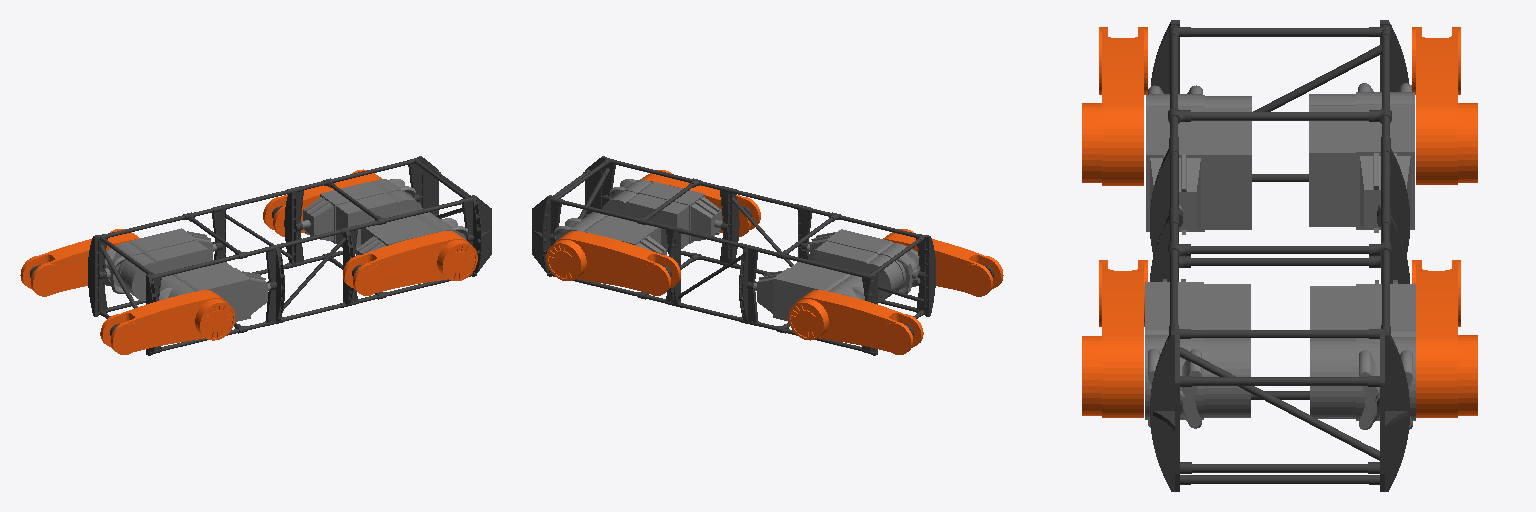
URDF robot description (vision60):
<?xml version="1.0" ?>
<!-- =================================================================================== -->
<!-- |    This document was autogenerated by xacro from vision60.urdf.xacro            | -->
<!-- |    Converted by [author], 2018-08-04, Caltech                               | -->
<!-- |    Toe deleted                                                                  | -->
<!-- |    Meshes added                                                                 | -->
<!-- |    EDITING THIS FILE BY HAND IS NOT RECOMMENDED                                 | -->
<!-- =================================================================================== -->
<!--
 * Copyright (C) Ghost Robotics - All Rights Reserved
 * Unauthorized copying of this file, via any medium is strictly prohibited
 * Proprietary and confidential
 * Written by [author] <[email redacted]> and [author] <[email redacted]>
-->
<robot name="vision60" xmlns:xacro="http://www.ros.org/wiki/xacro">
  <!-- Define materials -->
  <material name="gray">
    <color rgba="0.5 0.5 0.5 1.2"/>
  </material>
  <material name="white">
    <color rgba="1 1 1 0.9"/>
  </material>
  <material name="darkgray">
    <color rgba="0.3 0.3 0.3 1.0"/>
  </material>
  <material name="blue">
    <color rgba="0 0 0.8 1"/>
  </material>
  <material name="black">
    <color rgba="0 0 0 1"/>
  </material>
  <material name="purple">
    <color rgba="0.5 0.0 0.5 1.0"/>
  </material>
  <material name="red">
    <color rgba="0.8 0.0 0.2 1.0"/>
  </material>
  <material name="ctorange">
    <color rgba="1.0 0.43137254902 0.117647058824 1"/>
  </material>
  <!-- Body -->
  <link name="body">
    <visual>
      <origin rpy="0 0 0" xyz="-0.45 -0.155  -0.105"/>
      <geometry>
        <!-- <box size="0.88 0.25 0.19"/> -->
        <mesh scale="0.001 0.001 0.001" filename="package://vision60/meshes/body_frame.STL"/>
      </geometry>
      <material name="darkgray"/>
    </visual>
    <inertial>
      <mass value="12"/>
      <!-- Uniform box -->
      <inertia ixx="0.058" ixy="0" ixz="0" iyy="0.149" iyz="0" izz="0.195"/>
    </inertial>
    <!-- Just copy geometry for collision -->
    <collision>
      <geometry>
        <!-- <box size="0.05 0.25 0.19"/> -->
        <mesh filename="package://vision60/meshes/body_frame.STL"/>
      </geometry>
    </collision>
  </link>
  <!-- red new legs -->
  <!-- TODO: clean this, it should be part of main leg macro -->
  <!-- Hip motor -->
  <link name="hip0">
    <visual>
      <origin rpy="0 3.1415926 0" xyz="0.095 -0.1232 0.0487"/>
      <geometry>
        <mesh scale="0.001 0.001 0.001" filename="package://vision60/meshes/motor_lh.STL"/>
	      <!-- <box size="0.195 0.1 0.17"/> -->
      </geometry>
      <material name="gray"/>
    </visual>
    <collision>
      <origin rpy="1.5707963268 0 0" xyz="0.0 -0.039 0"/>
      <geometry>
	   <mesh filename="package://vision60/meshes/motor_lh.STL"/>
        <!-- <box size="0.195 0.1 0.17"/> -->
      </geometry>
    </collision>
    <inertial>
      <mass value="2.75"/>
      <inertia ixx="0.0058" ixy="0" ixz="0" iyy="0.0058" iyz="0" izz="0.0027"/>
    </inertial>
  </link>
  <!-- Abduction joint. Joint names are: 8 9 10 11 -->
  <joint name="hipRoll0" type="revolute">
    <parent link="body"/>
    <child link="hip0"/>
    <axis xyz="1 0 0"/>
    <origin xyz="0.325 0.1575 0"/>
    <limit effort="375" lower="-0.43" upper="0.43" velocity="8.6"/>
    <dynamics damping="0.0" friction="0.0"/>
  </joint>
  <!-- Upper leg -->
  <link name="upper0">
    <visual>
      <origin rpy="3.1415926 1.5707963 3.1415926" xyz="-0.27 -0.07 0.05"/>
      <!--<origin rpy="0 0 0" xyz="-0.125 0.0 0"/>-->
      <geometry>
        <mesh scale="0.001 0.001 0.001" filename="package://vision60/meshes/femur.STL"/>
        <!--<box size="0.25 0.044 0.06"/>-->
      </geometry>
      <material name="ctorange"/>
    </visual>
    <collision>
      <origin rpy="0 0 0" xyz="-0.125 0 0"/>
      <geometry>
        <box size="0.25 0.044 0.06"/>
      </geometry>
    </collision>
    <inertial>
      <mass value="0.625"/>
      <inertia ixx="0.0003125" ixy="0" ixz="0" iyy="0.0040625" iyz="0" izz="0.0040625"/>
    </inertial>
  </link>
  <!-- Hip joint. (Motor to upper leg). Joint names are: 0 2 4 6 -->
  <joint name="hipPitch0" type="revolute">
    <parent link="hip0"/>
    <child link="upper0"/>
    <axis xyz="0 -1 0"/>
    <origin xyz="0 0.068 0"/>
    <!--  rpy="0 -0.3 0" -->
    <limit effort="87.5" lower="-3.14159265359" upper="3.14159265359" velocity="30"/>
    <dynamics damping="0.0" friction="0.0"/>
  </joint>
  <!-- Lower leg -->
  <link name="lower0">
    <visual>
      <!-- <origin rpy="0 1.5707963268 3.1415926" xyz="0.2 0.034 0.05"/> -->
      <origin rpy="0 -1.5707963268 0" xyz="0.29 -0.057  -0.02"/>
      <geometry>
        <mesh scale="0.001 0.001 0.001" filename="package://vision60/meshes/tibia.STL"/>
        <!--  <cylinder length="0.28" radius="0.011"/>  -->
      </geometry>
      <material name="darkgray"/>
    </visual>
    <collision>
      <origin rpy="0 1.5707963268 0" xyz="0.14 0 -0.0355"/>
      <geometry>
        <cylinder length="0.28" radius="0.011"/>
      </geometry>
    </collision>
    <inertial>
      <mass value="0.2"/>
      <inertia ixx="0.00131075" ixy="0" ixz="0" iyy="0.00131075" iyz="0" izz="0.0001"/>
    </inertial>
  </link>
  <!-- Knee joint. Joint names are: 1 3 5 7 -->
  <joint name="knee0" type="revolute">
    <parent link="upper0"/>
    <child link="lower0"/>
    <axis xyz="0 1 0"/>
    <origin xyz="-0.25 0 0"/>
    <!--rpy="0 0.5 0"-->
    <limit effort="87.5" lower="0" upper="3.14159265359" velocity="30"/>
    <dynamics damping="0.0" friction="0.0"/>
  </joint>
   <!-- Hip motor -->
  <link name="hip1">
    <visual>
      <!-- <origin rpy="1.5707963268 0 0" xyz="0.0 -0.039 0"/> -->
      <origin rpy="0 0 0" xyz="-0.112 -0.124 -0.055"/>
      <geometry>
        <mesh scale="0.001 0.001 0.001" filename="package://vision60/meshes/motor_lh.STL"/>
        <!-- <box size="0.195 0.1 0.17"/> -->
      </geometry>
      <material name="gray"/>
    </visual>
    <collision>
      <origin rpy="1.5707963268 0 0" xyz="0.0 -0.039 0"/>
      <geometry>
        <box size="0.195 0.1 0.17"/>
      </geometry>
    </collision>
    <inertial>
      <mass value="2.75"/>
      <inertia ixx="0.0058" ixy="0" ixz="0" iyy="0.0058" iyz="0" izz="0.0027"/>
    </inertial>
  </link>
  <!-- Abduction joint. Joint names are: 8 9 10 11 -->
  <joint name="hipRoll1" type="revolute">
    <parent link="body"/>
    <child link="hip1"/>
    <axis xyz="1 0 0"/>
    <origin xyz="-0.325 0.1575 0"/>
    <limit effort="375" lower="-0.43" upper="0.43" velocity="8.6"/>
    <dynamics damping="0.0" friction="0.0"/>
  </joint>
  <!-- Upper leg -->
  <link name="upper1">
    <visual>
      <origin rpy="3.1415926 1.5707963 3.1415926" xyz="-0.27 -0.07 0.05"/>
      <!-- <origin rpy="0 0 0" xyz="-0.125 0.0 0"/> -->
      <geometry>
        <mesh scale="0.001 0.001 0.001" filename="package://vision60/meshes/femur.STL"/>
        <!-- <box size="0.25 0.044 0.06"/> -->
      </geometry>
      <material name="ctorange"/>
    </visual>
    <collision>
      <origin rpy="0 0 0" xyz="-0.125 0 0"/>
      <geometry>
        <box size="0.25 0.044 0.06"/>
      </geometry>
    </collision>
    <inertial>
      <mass value="0.625"/>
      <inertia ixx="0.0003125" ixy="0" ixz="0" iyy="0.0040625" iyz="0" izz="0.0040625"/>
    </inertial>
  </link>
  <!-- Hip joint. (Motor to upper leg). Joint names are: 0 2 4 6 -->
  <joint name="hipPitch1" type="revolute">
    <parent link="hip1"/>
    <child link="upper1"/>
    <axis xyz="0 -1 0"/>
    <origin xyz="0 0.068 0"/>
    <!--  rpy="0 -0.3 0" -->
    <limit effort="87.5" lower="-3.14159265359" upper="3.14159265359" velocity="30"/>
    <dynamics damping="0.0" friction="0.0"/>
  </joint>
  <!-- Lower leg -->
  <link name="lower1">
    <visual>
      <origin rpy="0 -1.5707963268 0" xyz="0.29 -0.057  -0.02"/>
      <!-- <origin rpy="0 1.5707963268 0" xyz="0.14 0 -0.0355"/> -->
      <geometry>
        <mesh scale="0.001 0.001 0.001" filename="package://vision60/meshes/tibia.STL"/>
        <!-- <cylinder length="0.28" radius="0.011"/> -->
      </geometry>
      <material name="darkgray"/>
    </visual>
    <collision>
      <origin rpy="0 1.5707963268 0" xyz="0.14 0 -0.0355"/>
      <geometry>
        <cylinder length="0.28" radius="0.011"/>
      </geometry>
    </collision>
    <inertial>
      <mass value="0.2"/>
      <inertia ixx="0.00131075" ixy="0" ixz="0" iyy="0.00131075" iyz="0" izz="0.0001"/>
    </inertial>
  </link>
  <!-- Knee joint. Joint names are: 1 3 5 7 -->
  <joint name="knee1" type="revolute">
    <parent link="upper1"/>
    <child link="lower1"/>
    <axis xyz="0 1 0"/>
    <origin xyz="-0.25 0 0"/>
    <!--rpy="0 0.5 0"-->
    <limit effort="87.5" lower="0" upper="3.14159265359" velocity="30"/>
    <dynamics damping="0.0" friction="0.0"/>
  </joint>
  <!-- Hip motor -->
  <link name="hip2">
    <visual>
      <origin rpy="0 0 3.1415926" xyz="0.0916 0.122 -0.053"/>
      <!--<origin rpy="1.5707963268 0 0" xyz="0.0 0.039 0"/> -->
      <geometry>
        <mesh scale="0.001 0.001 0.001" filename="package://vision60/meshes/motor_lh.STL"/>
        <!-- <box size="0.195 0.1 0.17"/> -->
      </geometry>
      <material name="gray"/>
    </visual>
    <collision>
      <origin rpy="1.5707963268 0 0" xyz="0.0 0.039 0"/>
      <geometry>
        <box size="0.195 0.1 0.17"/>
      </geometry>
    </collision>
    <inertial>
      <mass value="2.75"/>
      <inertia ixx="0.0058" ixy="0" ixz="0" iyy="0.0058" iyz="0" izz="0.0027"/>
    </inertial>
  </link>
  <!-- Abduction joint. Joint names are: 8 9 10 11 -->
  <joint name="hipRoll2" type="revolute">
    <parent link="body"/>
    <child link="hip2"/>
    <axis xyz="1 0 0"/>
    <origin xyz="0.325 -0.1575 0"/>
    <limit effort="375" lower="-0.43" upper="0.43" velocity="8.6"/>
    <dynamics damping="0.0" friction="0.0"/>
  </joint>
  <!-- Upper leg -->
  <link name="upper2">
    <visual>
      <origin rpy="3.14 1.57 3.14" xyz="-0.27 -0.01 0.05"/>
      <!-- <origin rpy="0 0 0" xyz="-0.125 -0.0 0"/> -->
      <geometry>
        <mesh scale="0.001 0.001 0.001" filename="package://vision60/meshes/femur_rs.STL"/>
        <!-- <box size="0.25 0.044 0.06"/> -->
      </geometry>
      <material name="ctorange"/>
    </visual>
    <collision>
      <origin rpy="0 0 0" xyz="-0.125 0 0"/>
      <geometry>
        <box size="0.25 0.044 0.06"/>
      </geometry>
    </collision>
    <inertial>
      <mass value="0.625"/>
      <inertia ixx="0.0003125" ixy="0" ixz="0" iyy="0.0040625" iyz="0" izz="0.0040625"/>
    </inertial>
  </link>
  <!-- Hip joint. (Motor to upper leg). Joint names are: 0 2 4 6 -->
  <joint name="hipPitch2" type="revolute">
    <parent link="hip2"/>
    <child link="upper2"/>
    <axis xyz="0 -1 0"/>
    <origin xyz="0 -0.068 0"/>
    <!--  rpy="0 -0.3 0" -->
    <limit effort="87.5" lower="-3.14159265359" upper="3.14159265359" velocity="30"/>
    <dynamics damping="0.0" friction="0.0"/>
  </joint>
  <!-- Lower leg -->
  <link name="lower2">
    <visual>
      <origin rpy="0 -1.5707963268 0" xyz="0.29 0.02  -0.02"/>
      <!-- <origin rpy="0 1.5707963268 0" xyz="0.14 0 -0.0355"/> -->
      <geometry>
        <mesh scale="0.001 0.001 0.001" filename="package://vision60/meshes/tibia.STL"/>
        <!-- <cylinder length="0.28" radius="0.011"/> -->
      </geometry>
      <material name="darkgray"/>
    </visual>
    <collision>
      <origin rpy="0 1.5707963268 0" xyz="0.14 0 -0.0355"/>
      <geometry>
        <cylinder length="0.28" radius="0.011"/>
      </geometry>
    </collision>
    <inertial>
      <mass value="0.2"/>
      <inertia ixx="0.00131075" ixy="0" ixz="0" iyy="0.00131075" iyz="0" izz="0.0001"/>
    </inertial>
  </link>
  <!-- Knee joint. Joint names are: 1 3 5 7 -->
  <joint name="knee2" type="revolute">
    <parent link="upper2"/>
    <child link="lower2"/>
    <axis xyz="0 1 0"/>
    <origin xyz="-0.25 0 0"/>
    <!--rpy="0 0.5 0"-->
    <limit effort="87.5" lower="0" upper="3.14159265359" velocity="30"/>
    <dynamics damping="0.0" friction="0.0"/>
  </joint>
   <!-- Hip motor -->
  <link name="hip3">
    <visual>
      <origin rpy="3.1415926 0 0" xyz="-0.11 0.123 0.045"/>
      <!-- <origin rpy="1.5707963268 0 0" xyz="0.0 0.039 0"/> -->
      <geometry>
        <mesh scale="0.001 0.001 0.001" filename="package://vision60/meshes/motor_lh.STL"/>
        <!-- <box size="0.195 0.1 0.17"/> -->
      </geometry>
      <material name="gray"/>
    </visual>
    <collision>
      <origin rpy="1.5707963268 0 0" xyz="0.0 0.039 0"/>
      <geometry>
        <box size="0.195 0.1 0.17"/>
      </geometry>
    </collision>
    <inertial>
      <mass value="2.75"/>
      <inertia ixx="0.0058" ixy="0" ixz="0" iyy="0.0058" iyz="0" izz="0.0027"/>
    </inertial>
  </link>
  <!-- Abduction joint. Joint names are: 8 9 10 11 -->
  <joint name="hipRoll3" type="revolute">
    <parent link="body"/>
    <child link="hip3"/>
    <axis xyz="1 0 0"/>
    <origin xyz="-0.325 -0.1575 0"/>
    <limit effort="375" lower="-0.43" upper="0.43" velocity="8.6"/>
    <dynamics damping="0.0" friction="0.0"/>
  </joint>
  <!-- Upper leg -->
  <link name="upper3">
    <visual>
      <origin rpy="3.14 1.57 3.14" xyz="-0.27 -0.01 0.05"/>
      <!-- <origin rpy="0 0 0" xyz="-0.125 -0.0 0"/> -->
      <geometry>
        <mesh scale="0.001 0.001 0.001" filename="package://vision60/meshes/femur_rs.STL"/>
        <!-- <box size="0.25 0.044 0.06"/> -->
      </geometry>
      <material name="ctorange"/>
    </visual>
    <collision>
      <origin rpy="0 0 0" xyz="-0.125 0 0"/>
      <geometry>
        <box size="0.25 0.044 0.06"/>
      </geometry>
    </collision>
    <inertial>
      <mass value="0.625"/>
      <inertia ixx="0.0003125" ixy="0" ixz="0" iyy="0.0040625" iyz="0" izz="0.0040625"/>
    </inertial>
  </link>
  <!-- Hip joint. (Motor to upper leg). Joint names are: 0 2 4 6 -->
  <joint name="hipPitch3" type="revolute">
    <parent link="hip3"/>
    <child link="upper3"/>
    <axis xyz="0 -1 0"/>
    <origin xyz="0 -0.068 0"/>
    <!--  rpy="0 -0.3 0" -->
    <limit effort="87.5" lower="-3.14159265359" upper="3.14159265359" velocity="30"/>
    <dynamics damping="0.0" friction="0.0"/>
  </joint>
  <!-- Lower leg -->
  <link name="lower3">
    <visual>
      <origin rpy="0 -1.5707963268 0" xyz="0.29 0.02  -0.02"/>
      <!-- <origin rpy="0 1.5707963268 0" xyz="0.14 0 -0.0355"/> -->
      <geometry>
        <mesh scale="0.001 0.001 0.001" filename="package://vision60/meshes/tibia.STL"/>
        <!-- <cylinder length="0.28" radius="0.011"/> -->
      </geometry>
      <material name="darkgray"/>
    </visual>
    <collision>
      <origin rpy="0 1.5707963268 0" xyz="0.14 0 -0.0355"/>
      <geometry>
        <cylinder length="0.28" radius="0.011"/>
      </geometry>
    </collision>
    <inertial>
      <mass value="0.2"/>
      <inertia ixx="0.00131075" ixy="0" ixz="0" iyy="0.00131075" iyz="0" izz="0.0001"/>
    </inertial>
  </link>
  <!-- Knee joint. Joint names are: 1 3 5 7 -->
  <joint name="knee3" type="revolute">
    <parent link="upper3"/>
    <child link="lower3"/>
    <axis xyz="0 1 0"/>
    <origin xyz="-0.25 0 0"/>
    <!--rpy="0 0.5 0"-->
    <limit effort="87.5" lower="0" upper="3.14159265359" velocity="30"/>
    <dynamics damping="0.0" friction="0.0"/>
  </joint>
  <!-- Toe -->

</robot>

--- Facts derived from the render (not from the file) ---
3 views of the same robot in one strip: view 1: azimuth 30°, elevation 25°; view 2: azimuth 150°, elevation 25°; view 3: azimuth 270°, elevation 25° (orthographic).
Model vision60 with 13 links and 12 joints (12 revolute), rooted at body, posed all joints at 0.
Links seen in each view (by area): view 1: body, upper2, upper3, hip0, hip1, hip3, upper1, hip2, upper0; view 2: body, upper0, upper1, hip2, hip3, hip1, upper3, hip0, upper2; view 3: body, hip1, hip3, hip0, hip2, upper3, upper1, upper2, upper0.
Boxes of the visible links, x1,y1,x2,y2 form: body: [88, 156, 491, 355]; upper2: [343, 231, 477, 295]; upper3: [100, 290, 234, 354]; hip0: [301, 179, 422, 248]; hip1: [104, 228, 216, 300]; hip3: [159, 262, 270, 321]; upper1: [20, 229, 139, 296]; hip2: [356, 212, 467, 255]; upper0: [263, 169, 381, 236]; body: [532, 156, 935, 355]; upper0: [546, 231, 680, 295]; upper1: [788, 290, 923, 354]; hip2: [602, 179, 722, 249]; hip3: [801, 229, 919, 301]; hip1: [753, 262, 864, 321]; upper3: [883, 229, 1003, 296]; hip0: [554, 212, 666, 254]; upper2: [642, 170, 760, 236]; body: [1150, 20, 1409, 491]; hip1: [1309, 83, 1414, 232]; hip3: [1146, 85, 1251, 234]; hip0: [1310, 280, 1415, 429]; hip2: [1145, 279, 1250, 428]; upper3: [1082, 27, 1147, 185]; upper1: [1412, 27, 1477, 184]; upper2: [1082, 260, 1147, 417]; upper0: [1412, 260, 1477, 417].
Size in the robot's own frame: 1.07 by 0.469 by 0.204 metres.
Meshes: 5 distinct files referenced, 13 mesh visuals loaded (5 binary STL).
